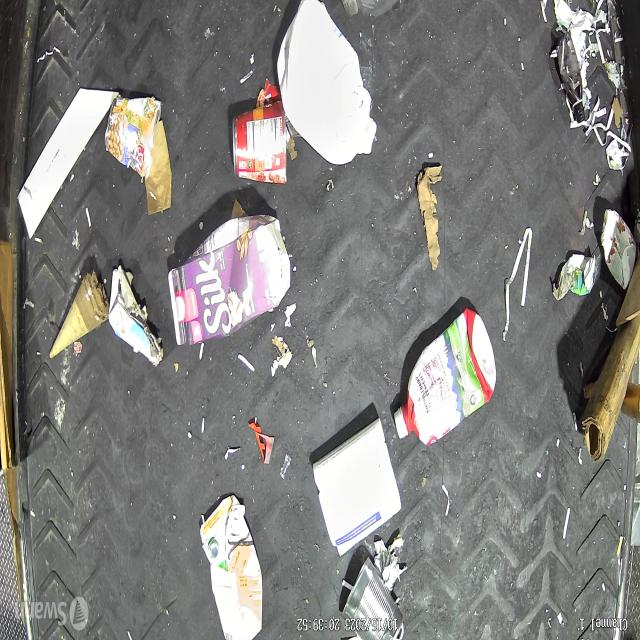can: (226, 97, 294, 194), (332, 561, 408, 640)
milk_jug: (274, 0, 382, 185)
